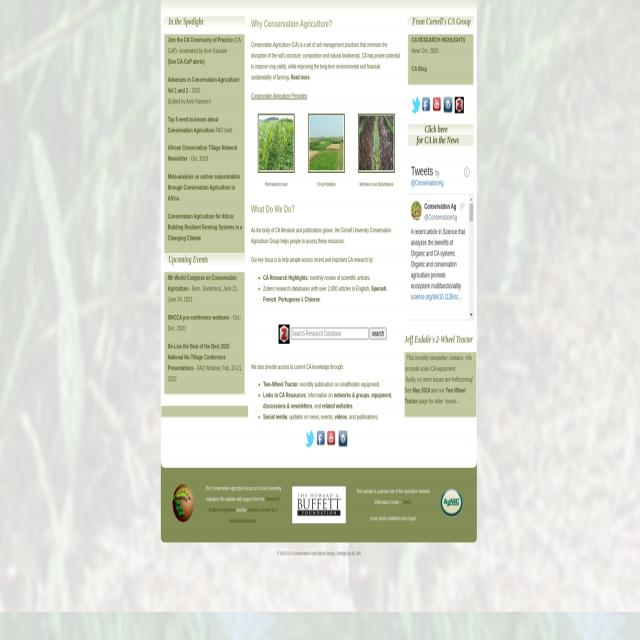button: (258, 113, 294, 173), (308, 113, 344, 173), (358, 113, 394, 173), (292, 486, 346, 524), (172, 484, 194, 522), (440, 488, 462, 516), (278, 324, 290, 344), (411, 201, 422, 222), (369, 328, 386, 339), (421, 96, 431, 114), (432, 96, 442, 114), (443, 96, 453, 114), (305, 430, 315, 448), (316, 430, 326, 448), (326, 430, 336, 448), (338, 430, 348, 448), (411, 96, 420, 114), (454, 98, 464, 114), (469, 203, 474, 222), (459, 200, 466, 212), (464, 167, 470, 177), (468, 310, 474, 320), (469, 194, 474, 203)
field: (291, 328, 368, 339)
